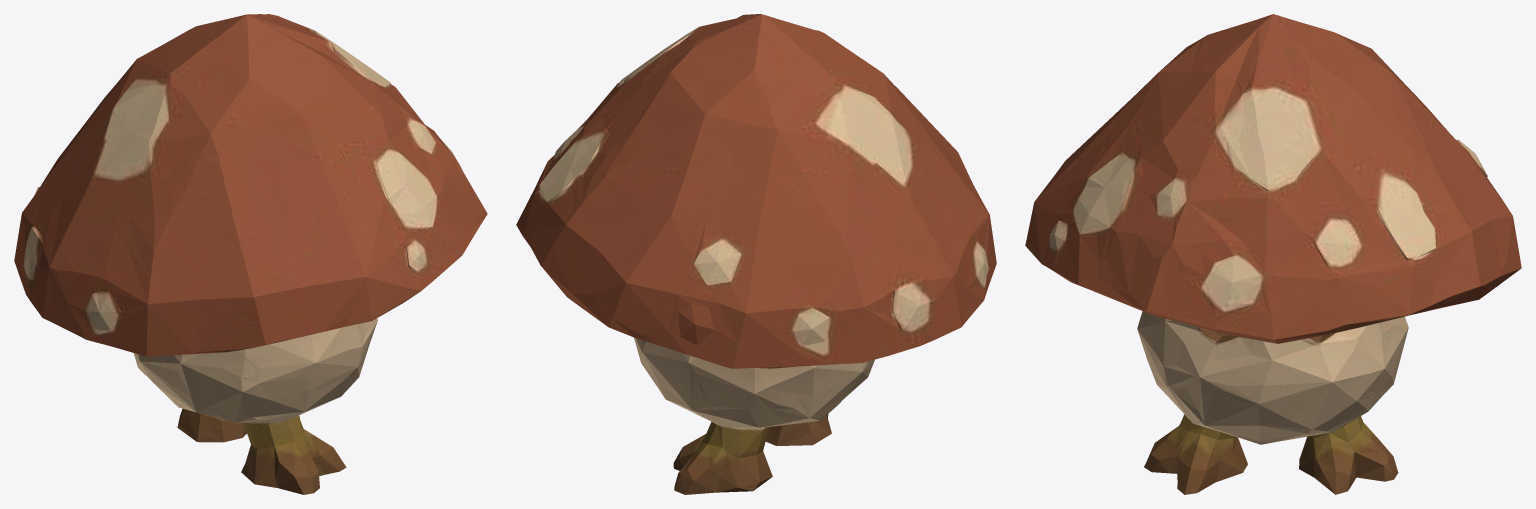
File: m_champignon_grognon_v2_tripo.glb
3 renders of one model, left to right at view 1: azimuth 30°, elevation 25°; view 2: azimuth 150°, elevation 25°; view 3: azimuth 270°, elevation 25°, orthographic. The views are drawn at different scales.
Visible parts, largest first — view 1: tripo_node_c16fc27b-59ea-4795-bf77-3dd40f950547; view 2: tripo_node_c16fc27b-59ea-4795-bf77-3dd40f950547; view 3: tripo_node_c16fc27b-59ea-4795-bf77-3dd40f950547.
Part boxes in pixels (left/top/right/bottom): tripo_node_c16fc27b-59ea-4795-bf77-3dd40f950547: left=14, top=14, right=487, bottom=494; tripo_node_c16fc27b-59ea-4795-bf77-3dd40f950547: left=516, top=14, right=996, bottom=494; tripo_node_c16fc27b-59ea-4795-bf77-3dd40f950547: left=1025, top=14, right=1521, bottom=494.
Size of the model in its own units: 0.982 by 1 by 0.9952.
1 material, 1 textured.
